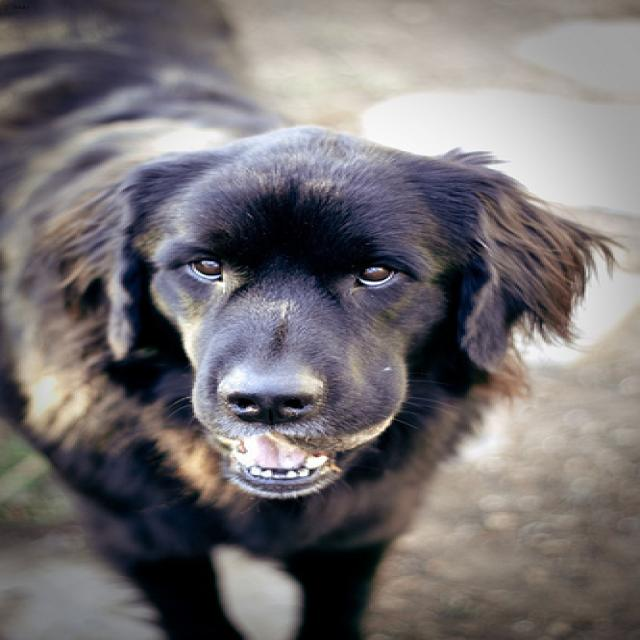dog-newfoundland: (2, 1, 630, 637)
